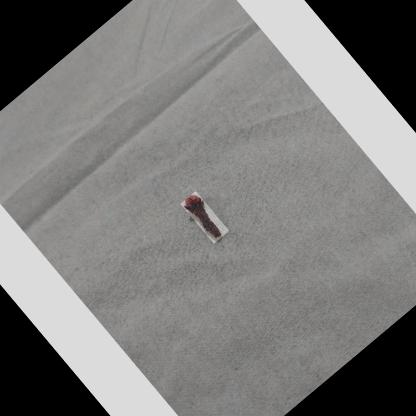sedang: (185, 195, 223, 241)
